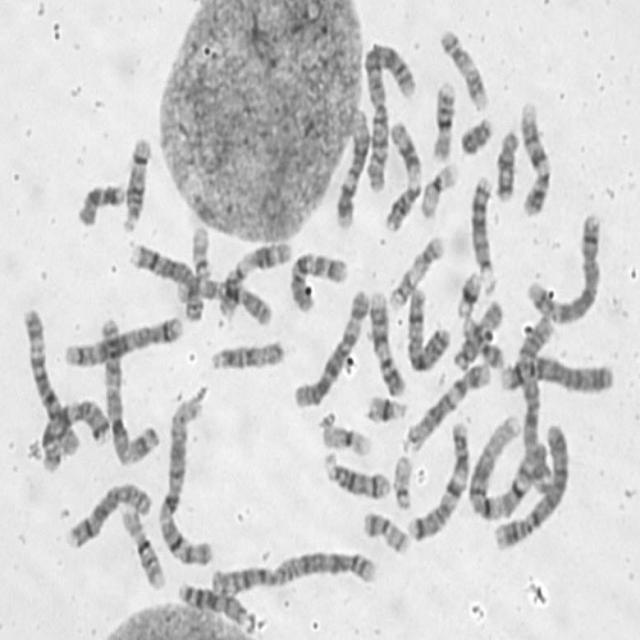A1: (157, 392, 215, 568), (462, 412, 546, 523)
A2: (361, 41, 418, 192), (208, 544, 379, 593)
A3: (514, 298, 574, 506), (98, 314, 161, 458)
B4: (490, 425, 571, 552), (496, 350, 614, 394)
B5: (523, 210, 604, 326), (62, 311, 184, 369)
C10: (174, 274, 275, 326), (285, 248, 348, 314)
C11: (215, 239, 293, 320), (382, 119, 422, 234)
C12: (402, 359, 487, 445), (333, 111, 371, 231)
C6: (19, 302, 83, 458), (290, 285, 371, 396)
C7: (404, 416, 470, 533), (40, 396, 114, 468)
C8: (68, 477, 154, 551), (126, 243, 205, 323)
C9: (366, 282, 407, 398), (516, 100, 551, 218)
D13: (174, 578, 249, 628), (469, 170, 497, 290)
D14: (119, 134, 152, 235), (321, 452, 390, 496)
D15: (451, 296, 505, 376), (208, 336, 286, 374)
E16: (120, 504, 168, 588), (429, 77, 457, 162)
E17: (386, 231, 446, 312), (438, 24, 488, 112)
E18: (75, 178, 126, 228), (492, 125, 521, 203)
F19: (417, 160, 459, 220), (318, 421, 370, 458)
F20: (462, 316, 505, 372), (362, 508, 410, 556)
G21: (454, 268, 484, 320), (363, 391, 408, 424)
G22: (188, 223, 213, 280), (390, 450, 414, 508)
X: (403, 282, 453, 371)
Y: (456, 113, 492, 155)
